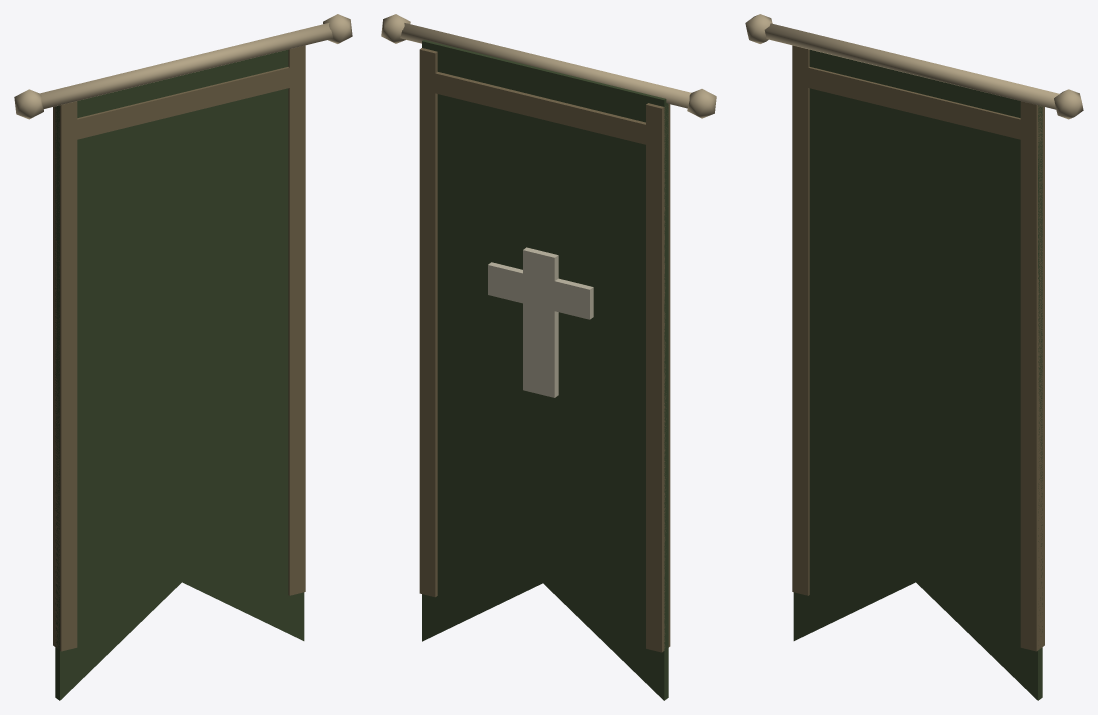
The model's file is ragged_brotherhood_sigil_v0.glb.
3 renders of one model, left to right at view 1: azimuth 30°, elevation 25°; view 2: azimuth 150°, elevation 25°; view 3: azimuth 330°, elevation 25°, orthographic.
Parts seen in each view (by area): view 1: ragged_brotherhood_sigil_v0; view 2: ragged_brotherhood_sigil_v0; view 3: ragged_brotherhood_sigil_v0.
Boxes of the visible parts, x1,y1,x2,y2 form: ragged_brotherhood_sigil_v0: (14,14,352,700); ragged_brotherhood_sigil_v0: (381,14,716,700); ragged_brotherhood_sigil_v0: (745,14,1083,700).
Bounding box in the file's own units: 1.04 × 1.84 × 0.0933.
